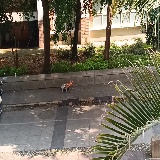fire: (65, 81, 73, 87)
